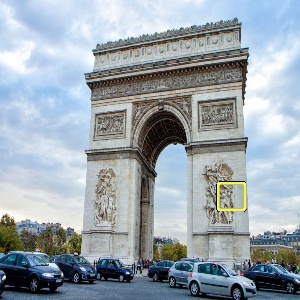square: (215, 180, 248, 212)
